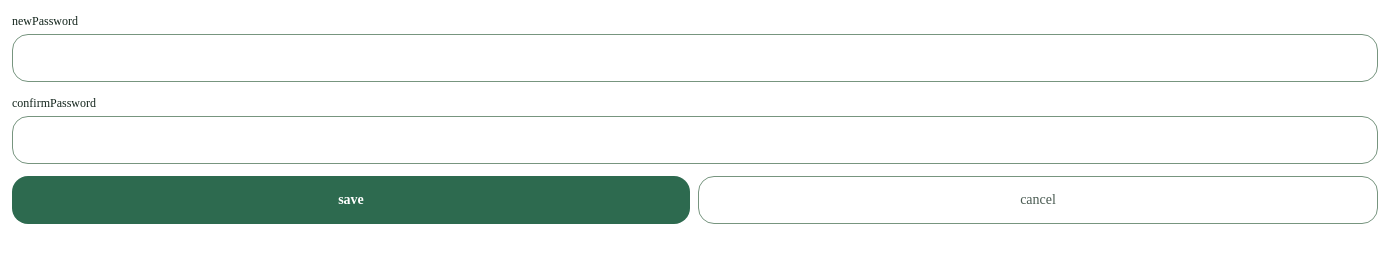
it: says what to do when Supabase refuses the change
In the password field labelled "newPassword": coordinates (695, 58) [12,34,1378,82], type "long-enough-1"
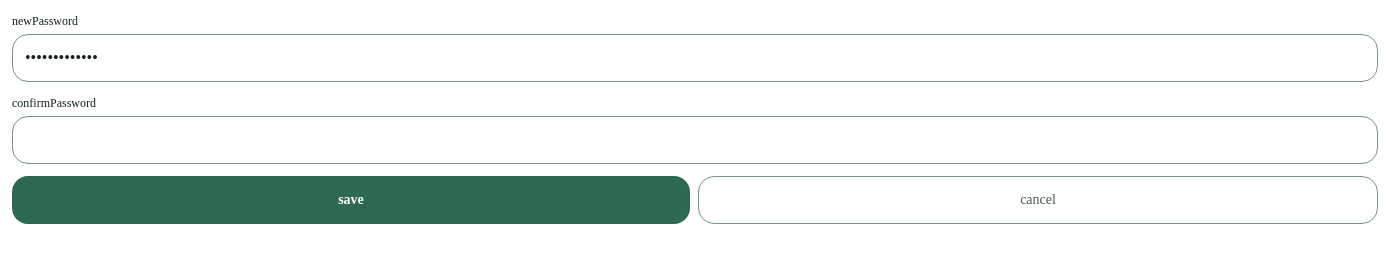
In the password field labelled "confirmPassword": coordinates (695, 140) [12,116,1378,164], type "long-enough-1"
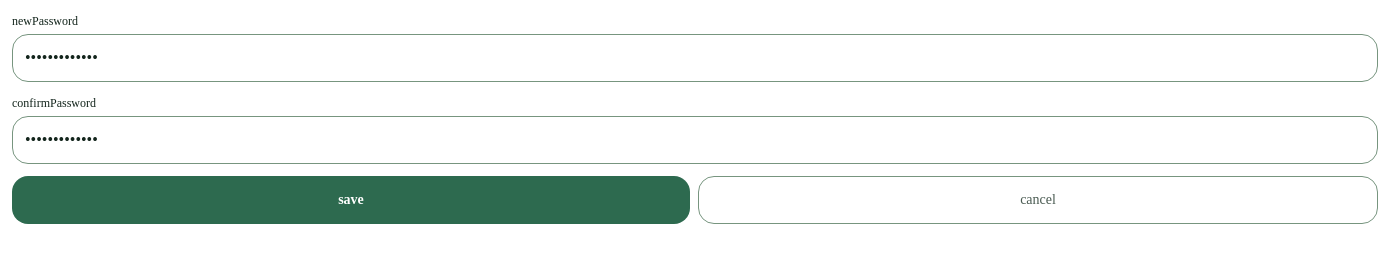
Click the button "save": coordinates (351, 200) [12,176,690,224]
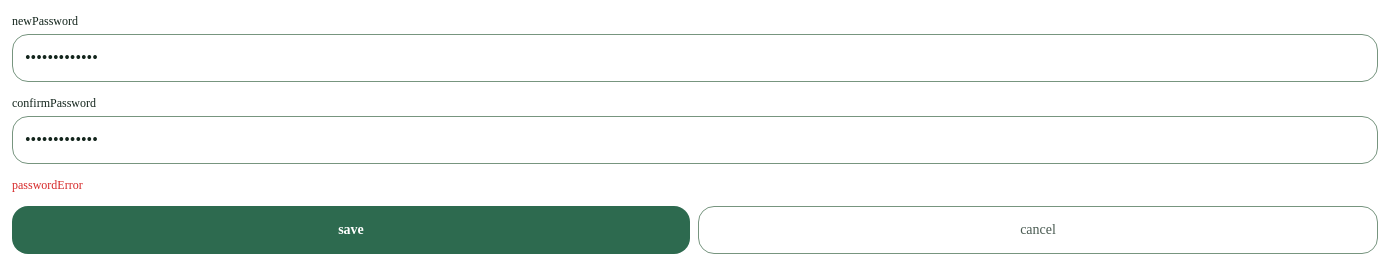
Now the message reads "passwordError", box [12,178,83,192]
